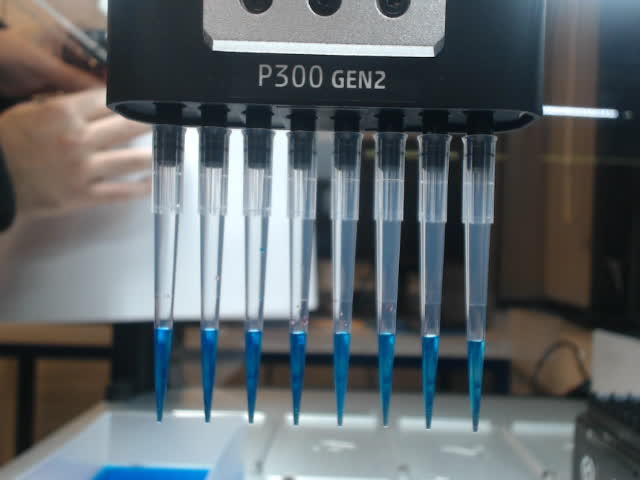Liquid: (374, 328, 403, 431), (462, 334, 491, 434), (242, 326, 269, 427), (418, 331, 444, 433), (285, 326, 311, 428), (151, 321, 176, 425), (331, 328, 355, 429), (197, 324, 219, 425)
Tip: (458, 133, 501, 434), (370, 129, 412, 430), (238, 125, 277, 429), (193, 123, 232, 427), (415, 132, 454, 433), (148, 121, 186, 426), (283, 127, 321, 430), (329, 129, 365, 428)
